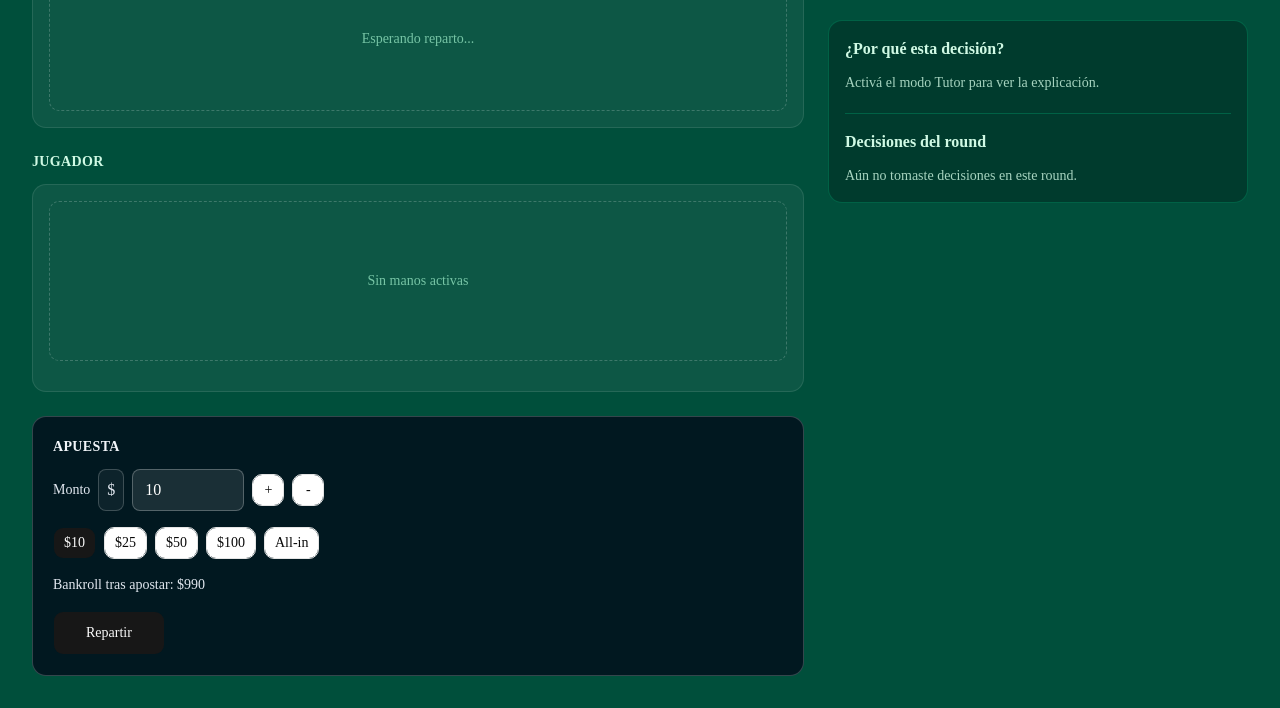
Test case: Table › renders dealer/player cards after deal, hiding dealer hole card
The width and height of the screenshot is (1280, 708).
(page scrolled)
Click the button "Repartir". click: (109, 633)
box: [53, 611, 165, 655]
(page scrolled)
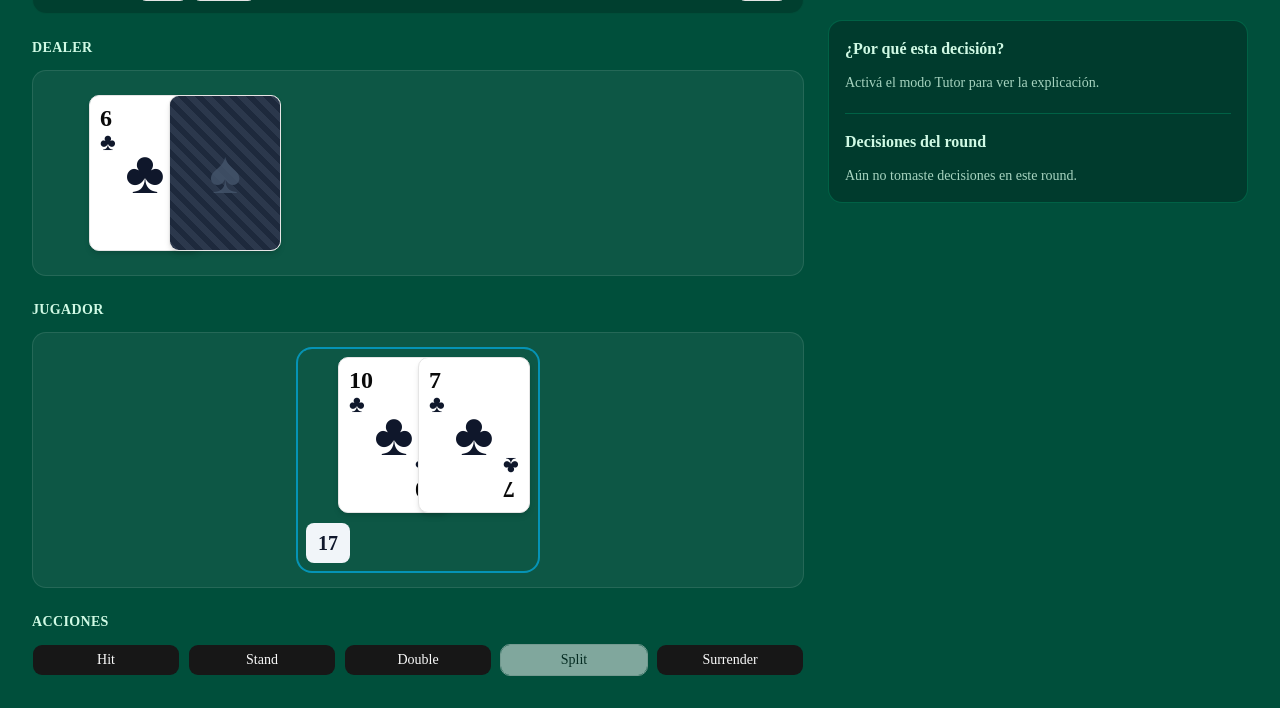
Result: the number of pictures is 4 at [89, 95, 201, 251]; [169, 95, 281, 251]; [338, 357, 450, 513]; [418, 357, 530, 513]
Result: the picture named "Carta boca abajo" is shown at [169, 95, 281, 251]
